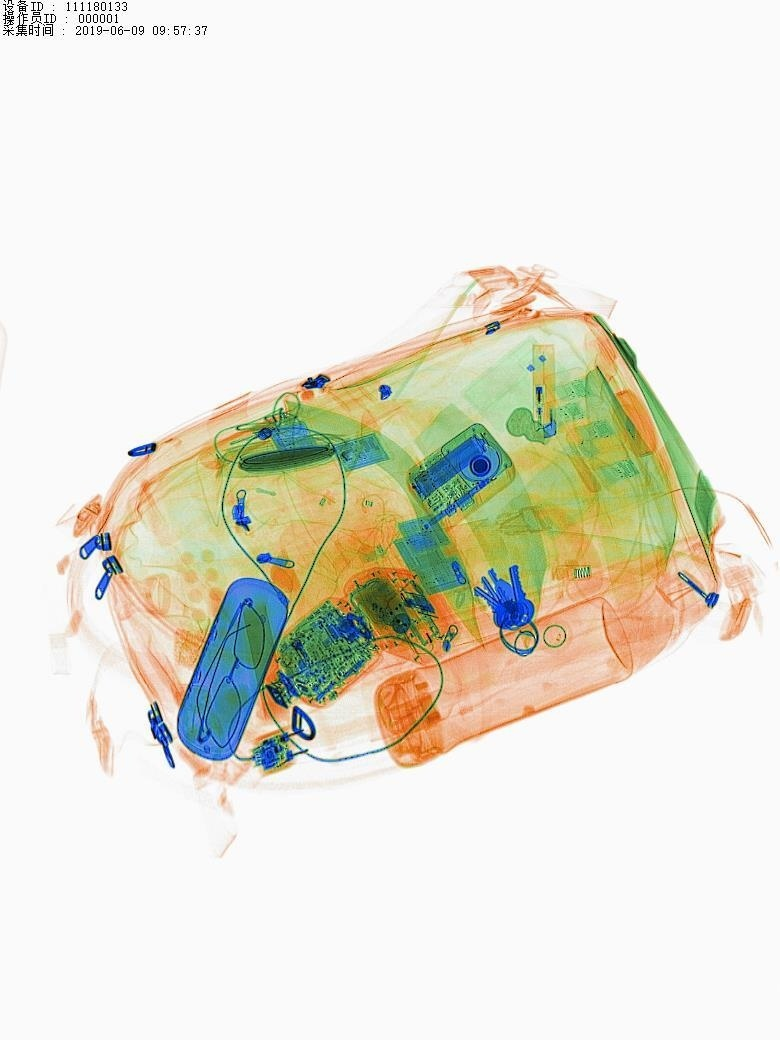NonmetallicFire: (515, 339, 565, 452)
